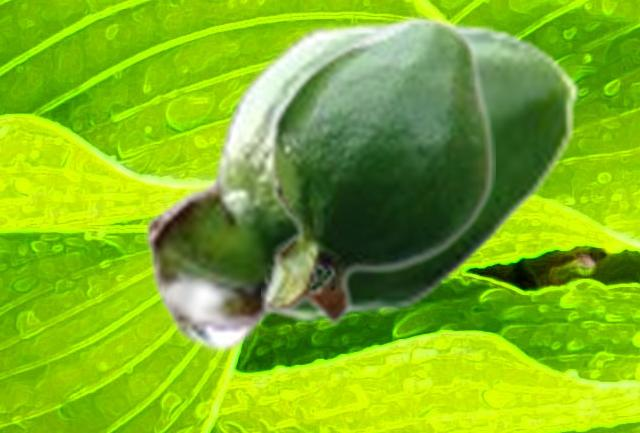guava: (144, 18, 580, 353), (261, 13, 494, 327)
